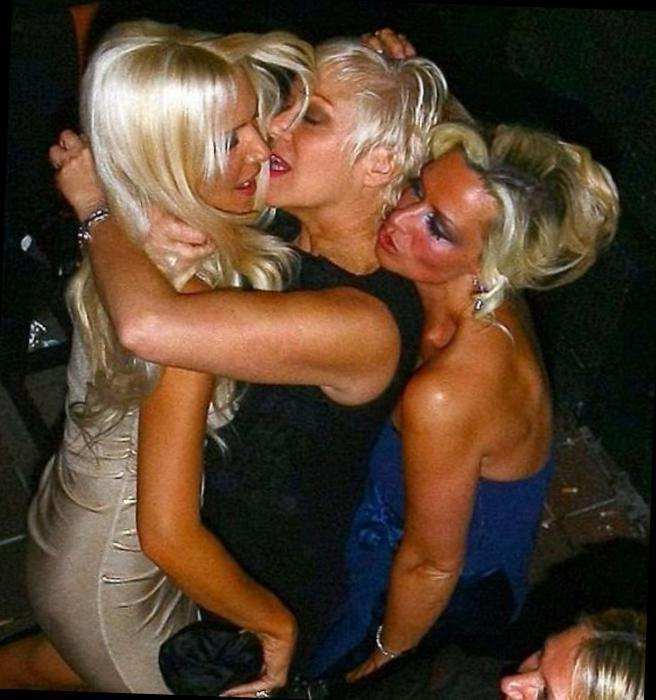Drunk: (263, 72, 357, 211), (373, 162, 491, 272)
